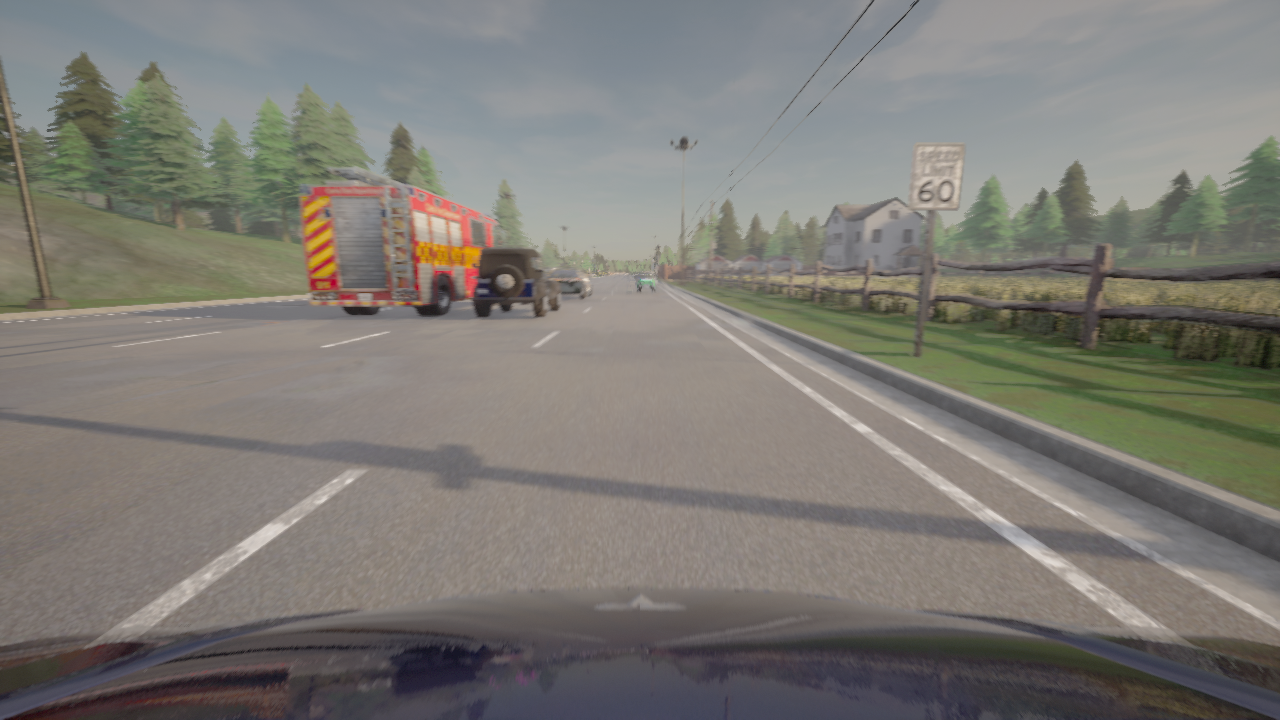cyclist: (0, 588, 1279, 719), (300, 167, 507, 315), (472, 247, 560, 317), (548, 266, 592, 299), (635, 271, 656, 292)
